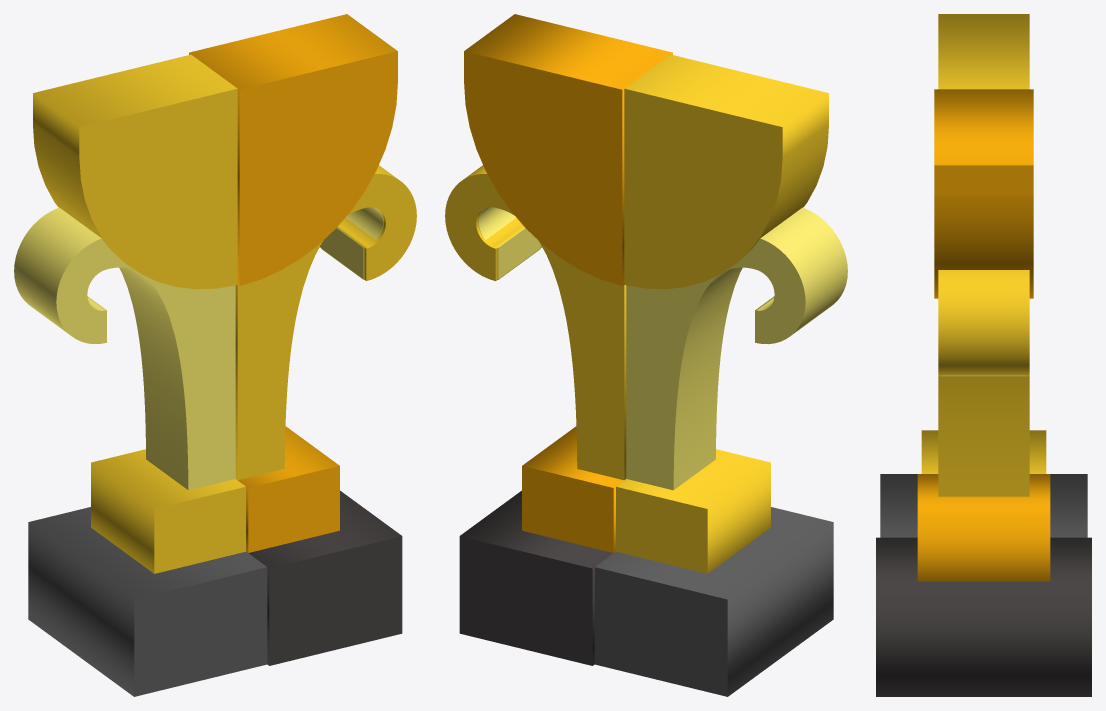
File: trophy.glb
3 renders of one model, left to right at view 1: azimuth 30°, elevation 25°; view 2: azimuth 150°, elevation 25°; view 3: azimuth 270°, elevation 25°, orthographic.
Parts seen in each view (by area): view 1: Curve.002, Curve.003, Curve.006, Curve, Curve.007, Curve.001, Curve.004, Curve.005; view 2: Curve.002, Curve.003, Curve.006, Curve, Curve.007, Curve.001, Curve.004, Curve.005; view 3: Curve.007, Curve.001, Curve.003, Curve.005, Curve.002, Curve.006, Curve.004.
Boxes of the visible parts, x1,y1,x2,y2 form: Curve.002: (33,54,237,289); Curve.003: (189,14,397,285); Curve.006: (28,507,267,696); Curve: (14,207,383,490); Curve.007: (248,490,402,665); Curve.001: (235,165,416,480); Curve.004: (91,449,245,573); Curve.005: (236,426,339,552); Curve.002: (624,54,828,289); Curve.003: (464,14,672,285); Curve.006: (594,507,833,696); Curve: (478,207,847,490); Curve.007: (459,490,613,665); Curve.001: (445,165,626,480); Curve.004: (616,449,770,573); Curve.005: (522,426,625,552); Curve.007: (876,537,1091,696); Curve.001: (938,270,1029,496); Curve.003: (934,89,1033,298); Curve.005: (917,474,1050,581); Curve.002: (938,14,1029,89); Curve.006: (880,474,1087,537); Curve.004: (921,430,1046,473).
Size of the model in its own units: 0.8369 by 1.24 by 0.4451.
